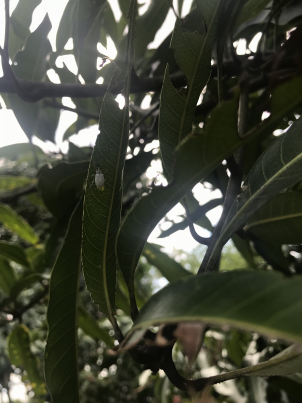weevil: (89, 160, 111, 194)
